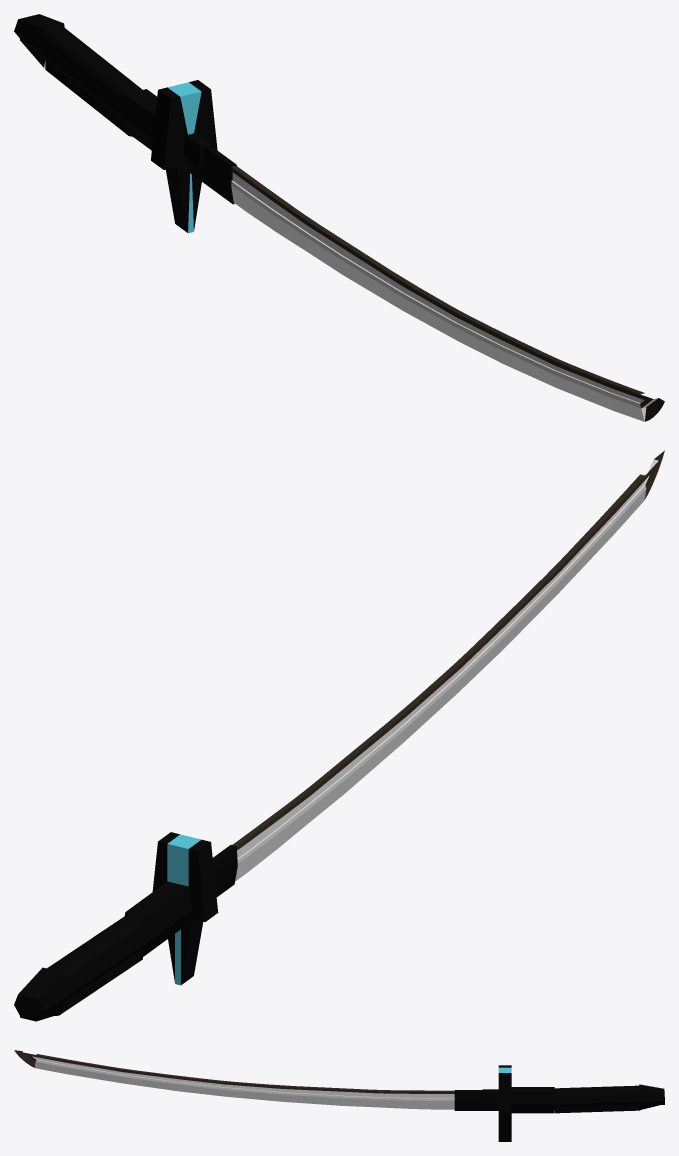
Rendered from KATANA (1).fbx.
3 views of the same model, one above another, from view 1: azimuth 30°, elevation 25°; view 2: azimuth 150°, elevation 25°; view 3: azimuth 270°, elevation 25° (orthographic). The views are drawn at different scales.
Parts seen in each view (by area): view 1: Cube.003, Cube.002; view 2: Cube.003, Cube.002; view 3: Cube.002, Cube.003.
Part boxes in pixels (x1,y1,x2,y2): Cube.003: (14,14,236,233); Cube.002: (231,165,664,421); Cube.003: (14,832,237,1021); Cube.002: (232,450,664,881); Cube.002: (14,1050,454,1109); Cube.003: (454,1065,664,1141).
Size of the model in its own units: 32.42 by 101 by 656.
